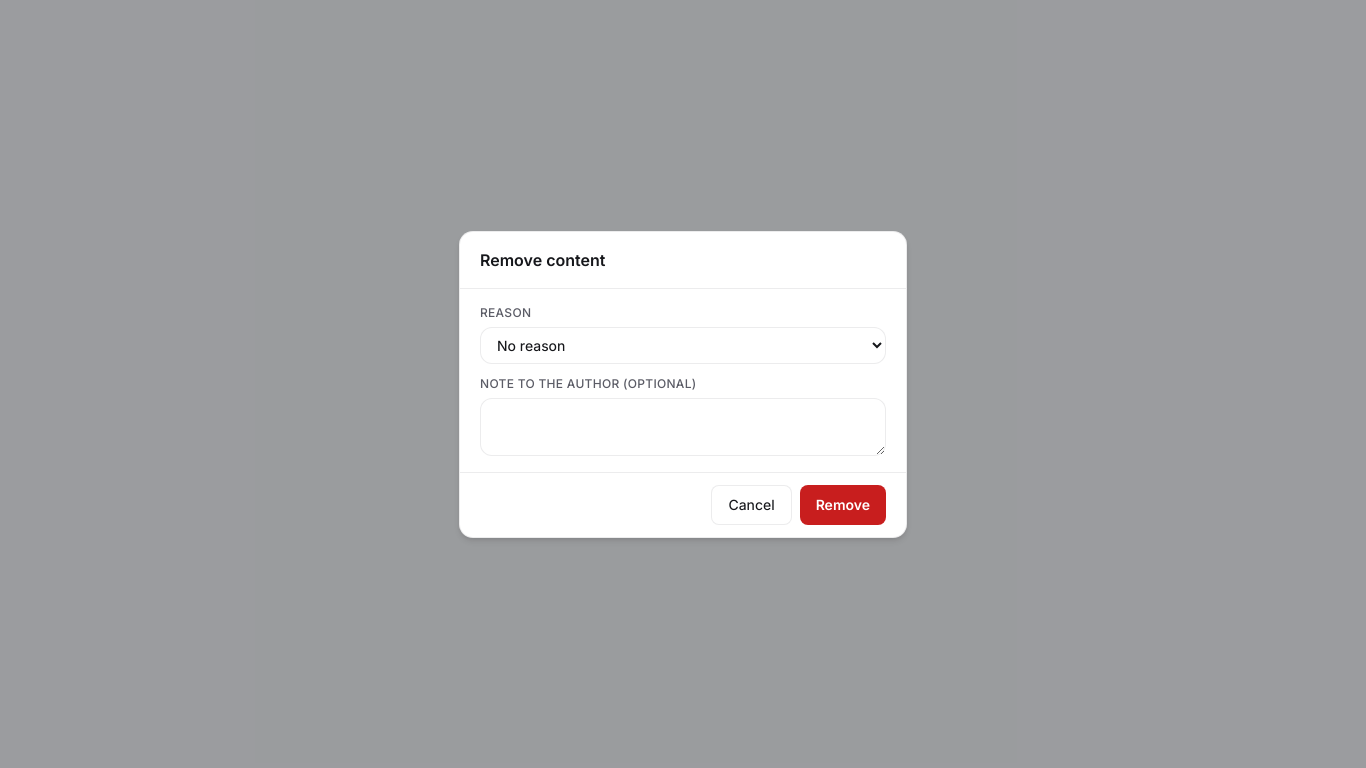
Scenario: shows an error when the removal fails
Click the button "Remove" at (843, 504), box [800,484,886,524]
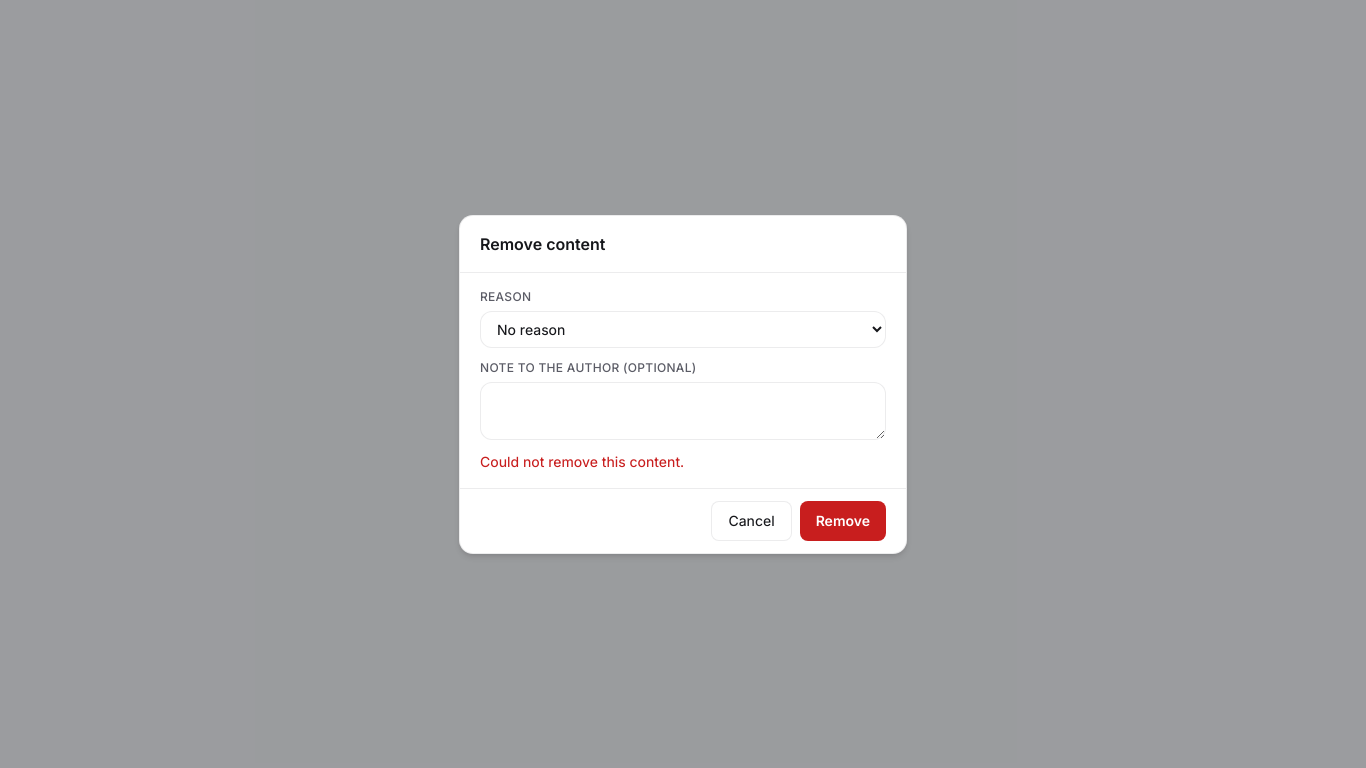
Expected: the message "Could not remove this content." is shown, [480,452,684,470]
